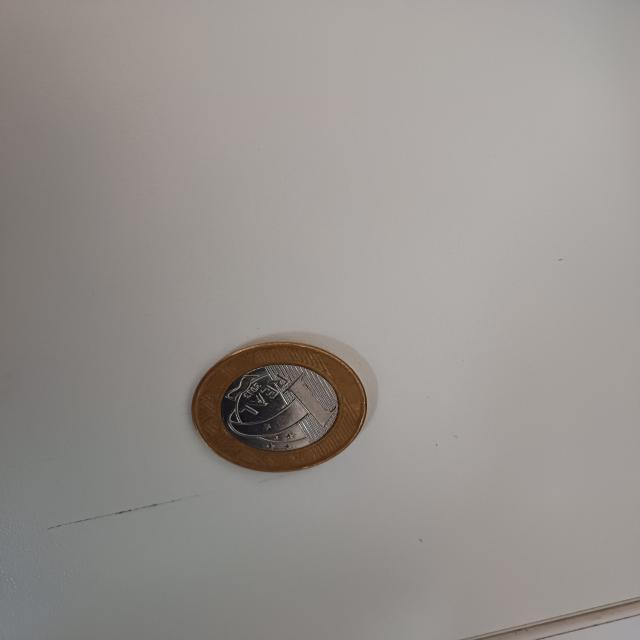1 real: (187, 337, 367, 478)
